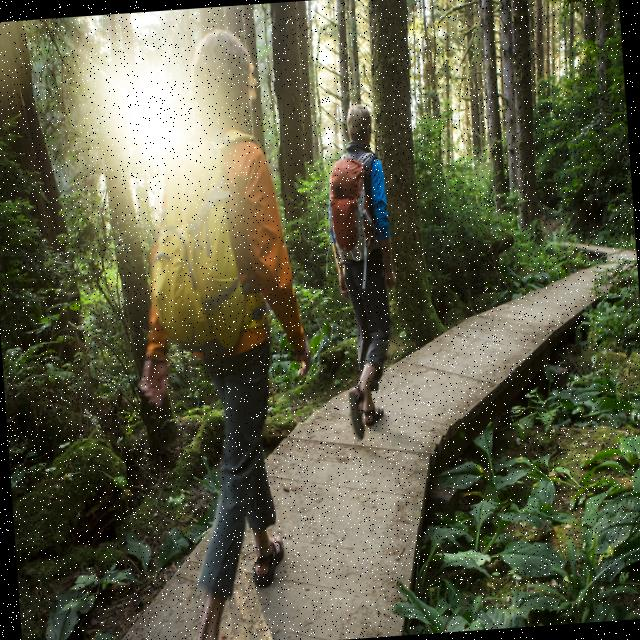Person: (115, 25, 331, 640), (319, 100, 406, 443)
